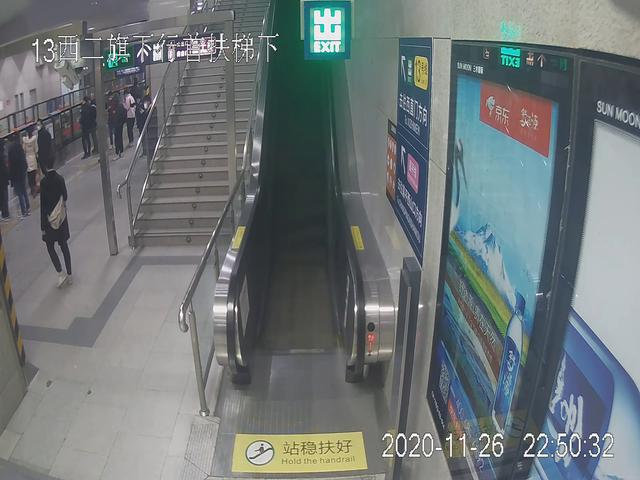person: (38, 153, 74, 290), (5, 135, 28, 217), (35, 117, 55, 187), (120, 92, 139, 149), (22, 129, 38, 196), (79, 96, 93, 163)
